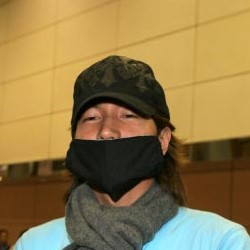mask: (54, 124, 174, 199)
